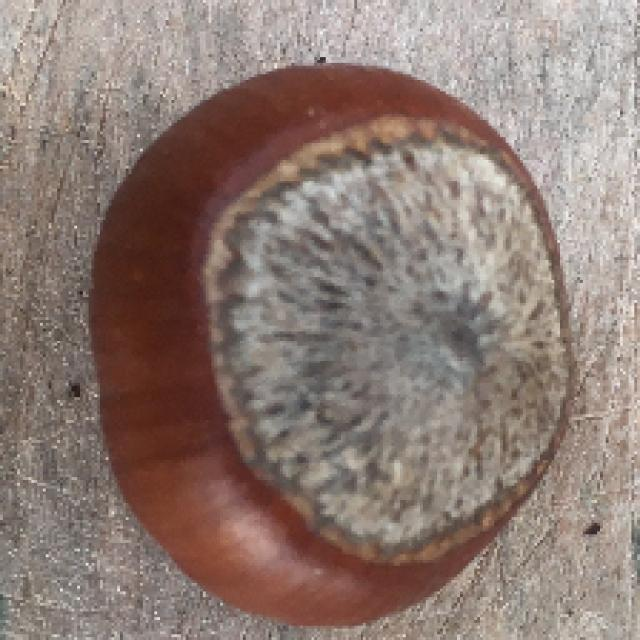qualityHazelnut: (92, 60, 579, 624)
